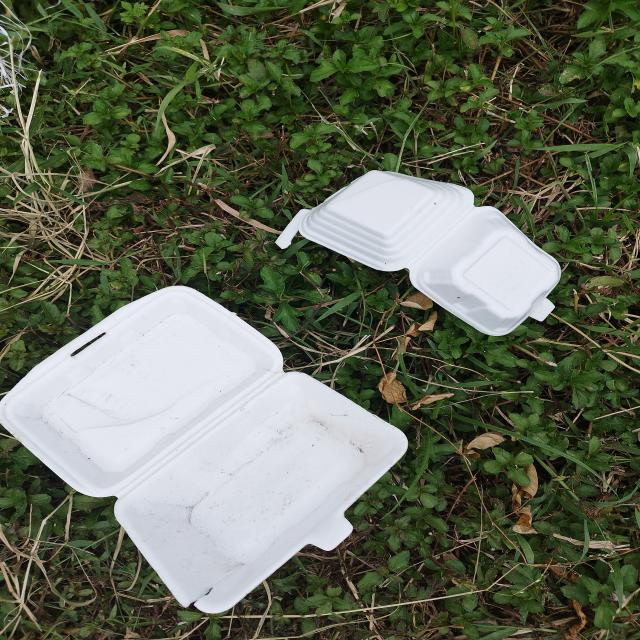foam box: (0, 286, 411, 614), (274, 171, 561, 337)
